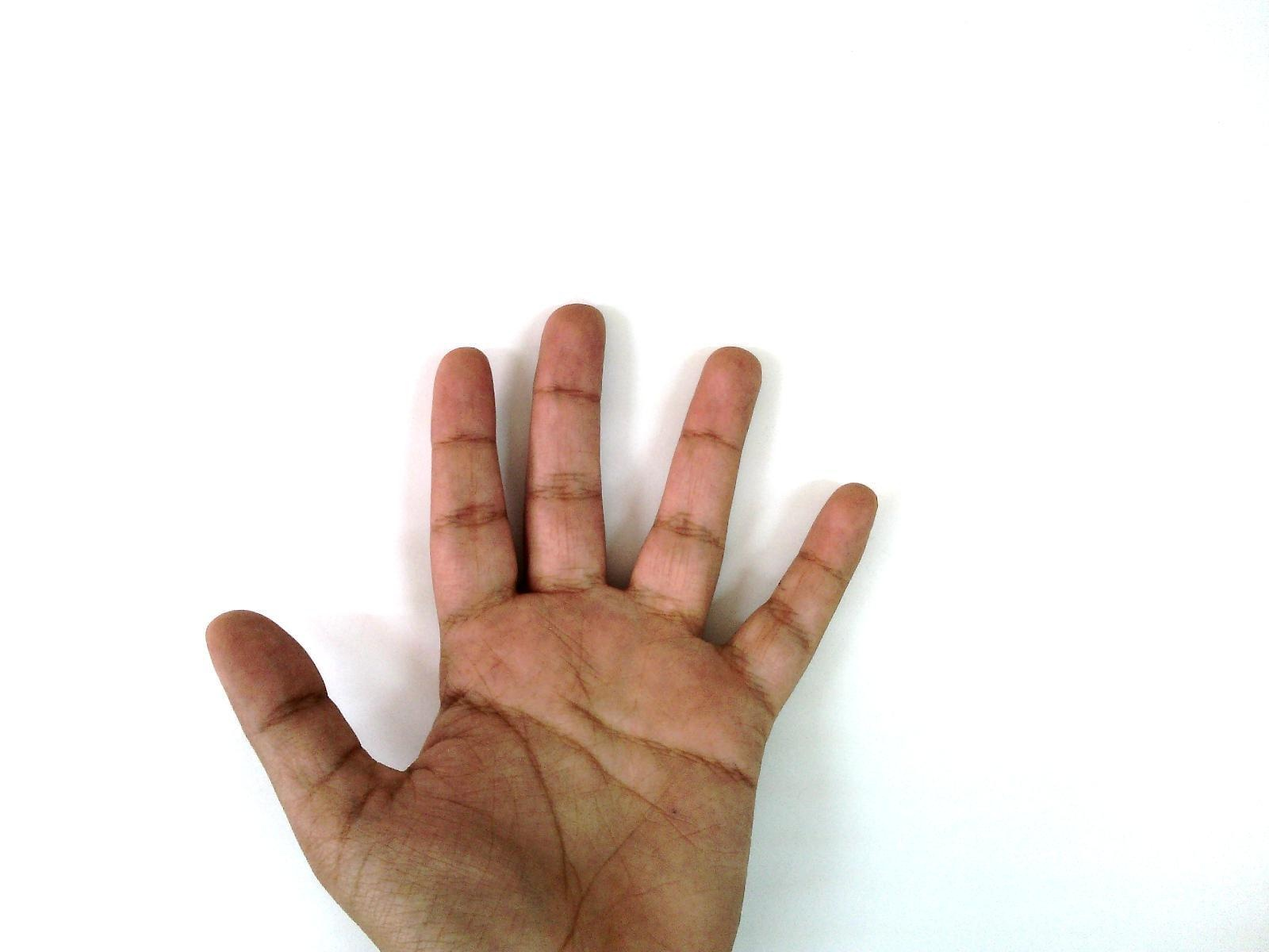open_palm: (204, 302, 882, 952)
